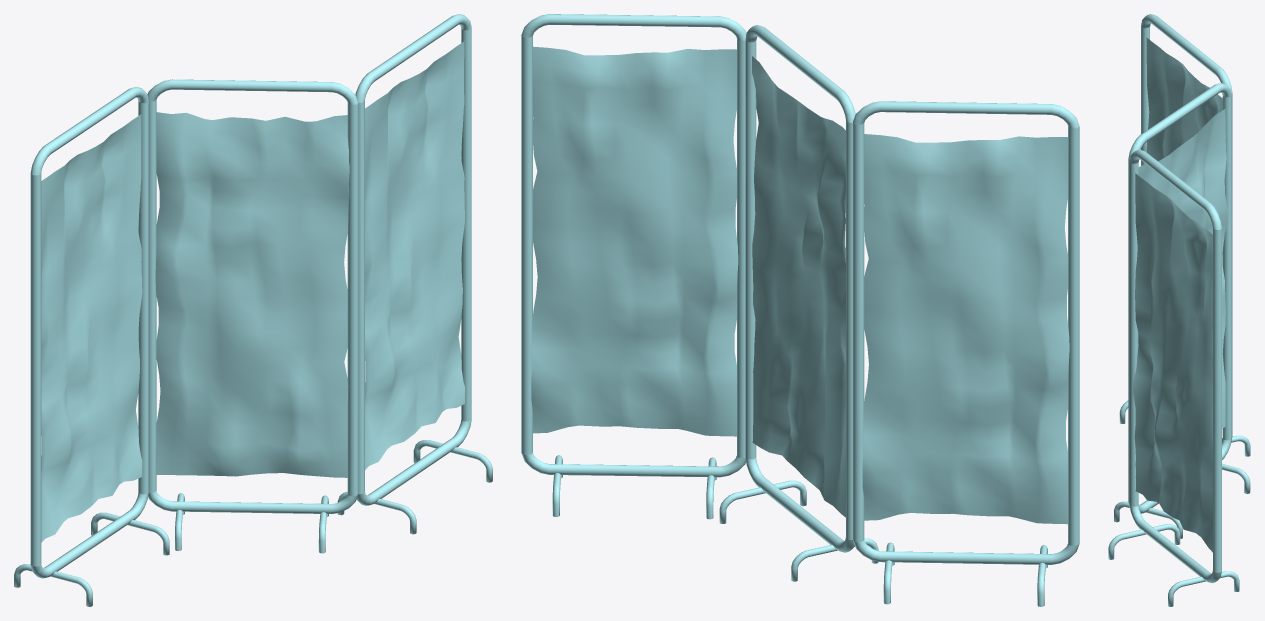
File: curtain.fbx
3 renders of one model, left to right at view 1: azimuth 30°, elevation 25°; view 2: azimuth 150°, elevation 25°; view 3: azimuth 270°, elevation 25°, orthographic. The views are drawn at different scales.
Visible parts, largest first — view 1: curtain; view 2: curtain; view 3: curtain.
Boxes of the visible parts, bbox=[...] form: curtain: bbox=[14, 14, 492, 606]; curtain: bbox=[521, 14, 1079, 606]; curtain: bbox=[1108, 14, 1250, 606].
Bounding box in the file's own units: 1.96 × 1.77 × 0.5728.
